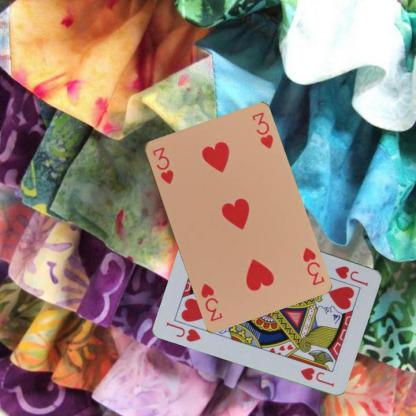3h: (300, 244, 326, 286), (150, 144, 175, 185)
Jh: (333, 263, 370, 288), (164, 320, 202, 343)
